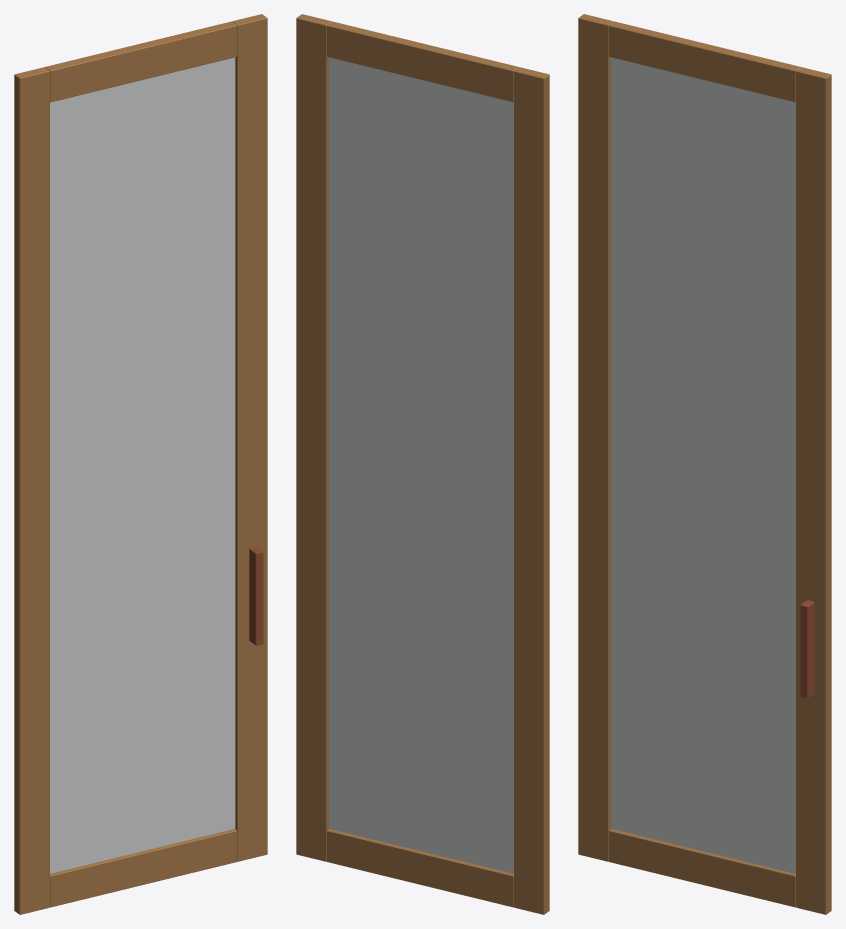
Rendered from glass_door_display_drawers_left_door.glb.
The picture shows the model from 3 angles, left to right: view 1: azimuth 30°, elevation 25°; view 2: azimuth 150°, elevation 25°; view 3: azimuth 330°, elevation 25°; orthographic projection.
Parts seen in each view (by area): view 1: glass_door_display_drawers_left_door.001; view 2: glass_door_display_drawers_left_door.001; view 3: glass_door_display_drawers_left_door.001.
Part boxes in pixels (x1=…): glass_door_display_drawers_left_door.001: x1=14, y1=14, x2=267, y2=914; glass_door_display_drawers_left_door.001: x1=296, y1=14, x2=549, y2=914; glass_door_display_drawers_left_door.001: x1=578, y1=14, x2=831, y2=914.
Size of the model in its own units: 0.4485 by 1.45 by 0.04.
